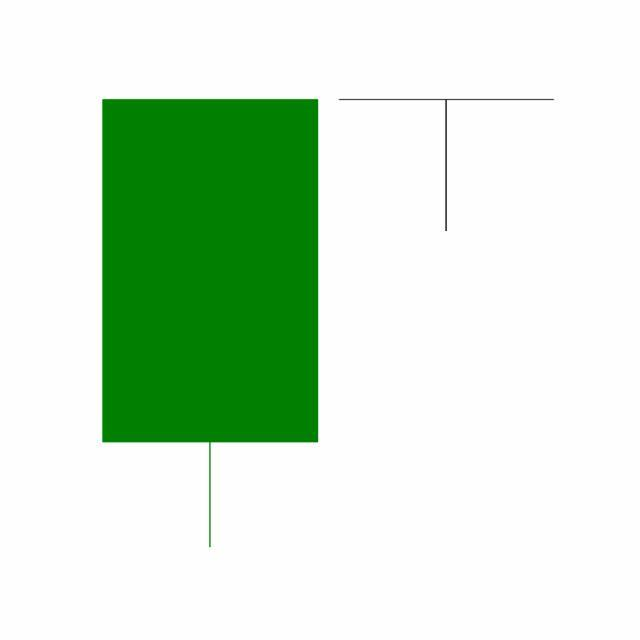Dragonfly Doji: (328, 98, 566, 234)
